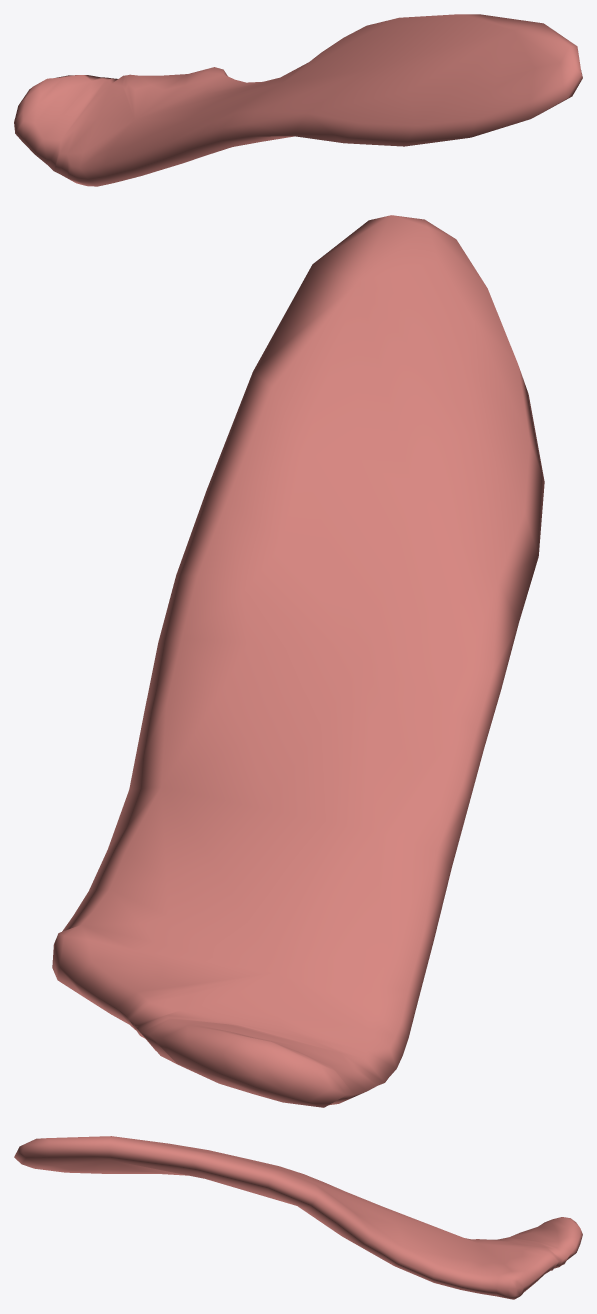
The picture shows the model from 3 angles, top to bottom: view 1: azimuth 30°, elevation 25°; view 2: azimuth 150°, elevation 25°; view 3: azimuth 270°, elevation 25°; orthographic projection. The views are drawn at different scales.
Parts seen in each view (by area): view 1: ZA_9e96915bdacbe1f0; view 2: ZA_9e96915bdacbe1f0; view 3: ZA_9e96915bdacbe1f0.
Part boxes in pixels (left/top/right/bottom): ZA_9e96915bdacbe1f0: left=14, top=14, right=582, bottom=186; ZA_9e96915bdacbe1f0: left=52, top=215, right=544, bottom=1107; ZA_9e96915bdacbe1f0: left=14, top=1136, right=582, bottom=1299.
Bounding box in the file's own units: 0.00476 × 0.0043 × 0.00991.
